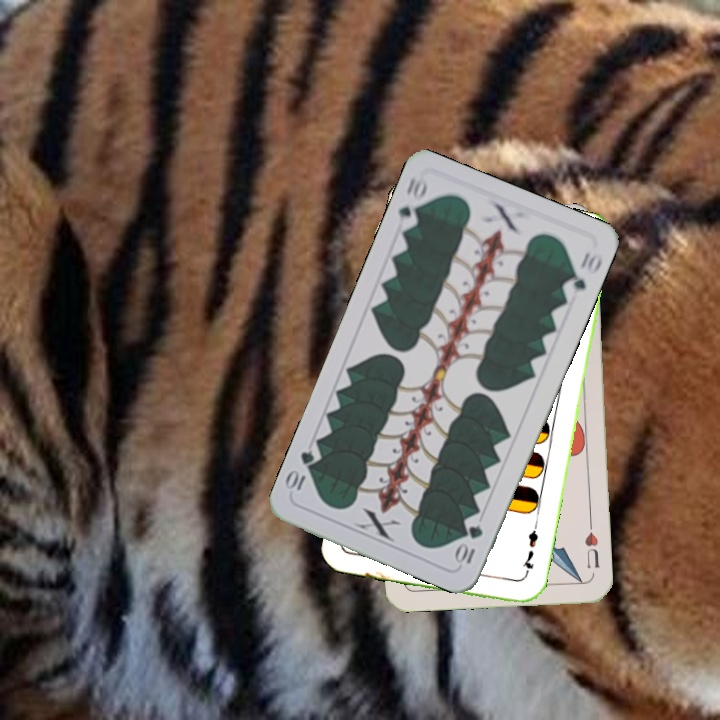E7: (518, 522, 541, 581)
G10: (393, 173, 430, 233), (451, 520, 486, 569)
HU: (581, 518, 602, 571)
